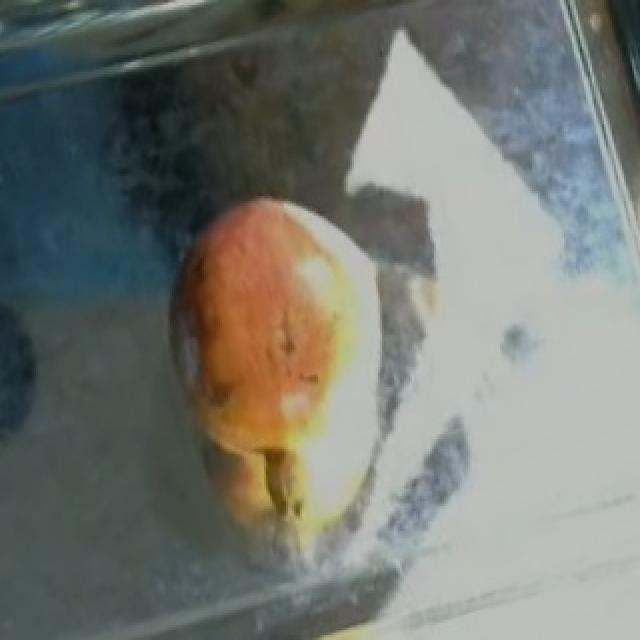fruit: (144, 166, 408, 414)
